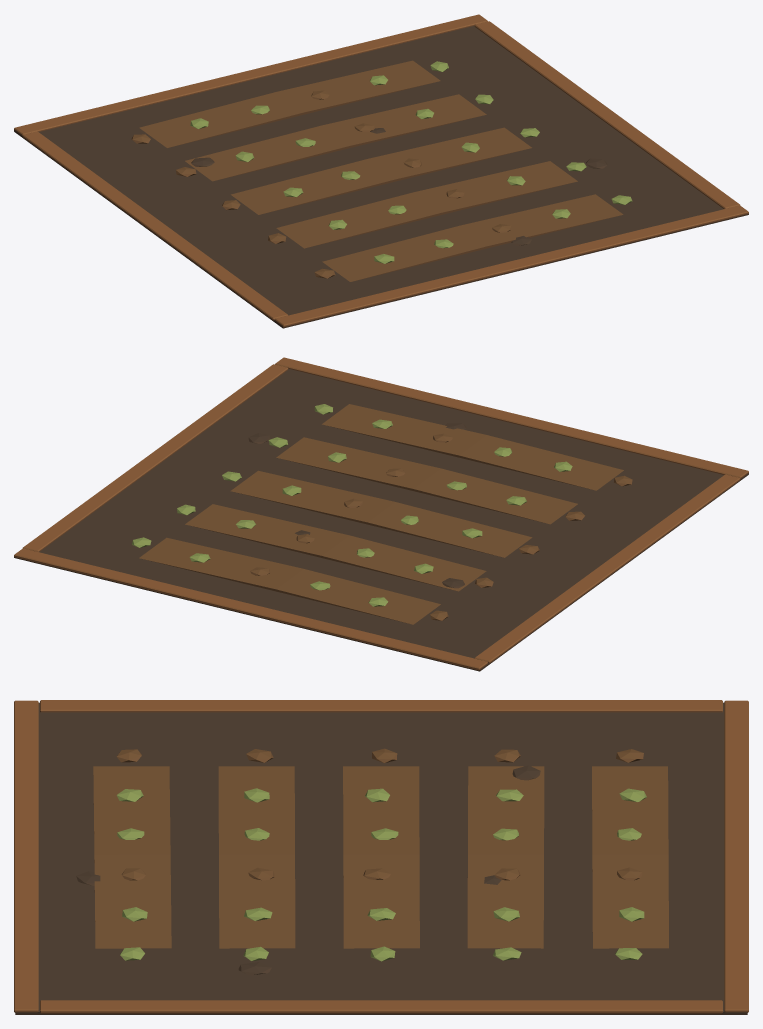
File: prop_vegetable_bed_tile_a.glb
3 views of the same model, one above another, from view 1: azimuth 30°, elevation 25°; view 2: azimuth 150°, elevation 25°; view 3: azimuth 270°, elevation 25° (orthographic). The views are drawn at different scales.
Parts seen in each view (by area): view 1: bed_clod_0, bed_row_0, bed_edge_x_0, bed_sprout_0_1; view 2: bed_clod_0, bed_row_0, bed_edge_x_0, bed_sprout_0_1; view 3: bed_clod_0, bed_row_0, bed_edge_x_0, bed_sprout_0_1.
Part boxes in pixels (x1,y1,x2,y2): bed_clod_0: [14, 25, 748, 328]; bed_row_0: [131, 60, 623, 281]; bed_edge_x_0: [14, 14, 748, 327]; bed_sprout_0_1: [190, 61, 632, 263]; bed_clod_0: [14, 368, 748, 671]; bed_row_0: [139, 404, 632, 624]; bed_edge_x_0: [14, 357, 748, 670]; bed_sprout_0_1: [132, 404, 572, 606]; bed_clod_0: [15, 702, 747, 1014]; bed_row_0: [93, 748, 668, 948]; bed_edge_x_0: [14, 700, 748, 1013]; bed_sprout_0_1: [116, 788, 646, 961].
Bounding box in the file's own units: 3.87 × 0.0501 × 3.87.
